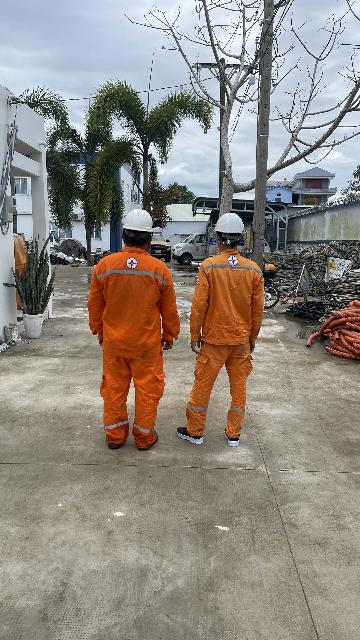helmet: (120, 197, 170, 244), (210, 204, 250, 244)
shoes: (170, 415, 221, 464), (99, 421, 137, 471), (125, 421, 173, 456), (217, 418, 254, 448)
